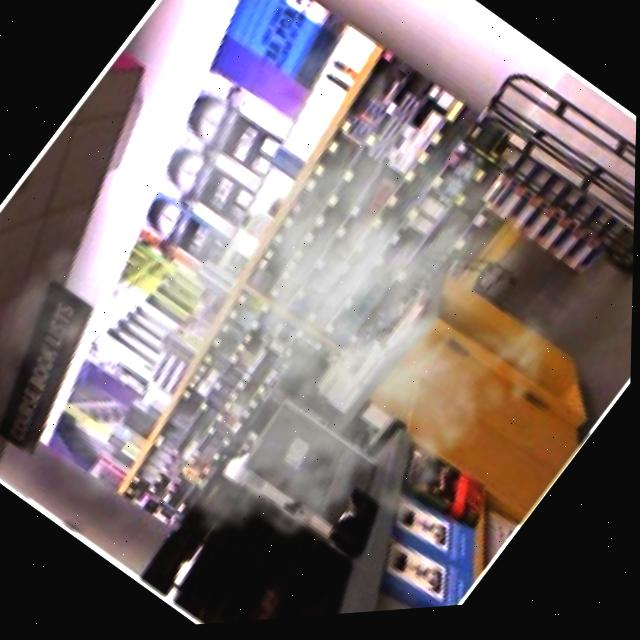Smoke: (0, 0, 636, 627)
